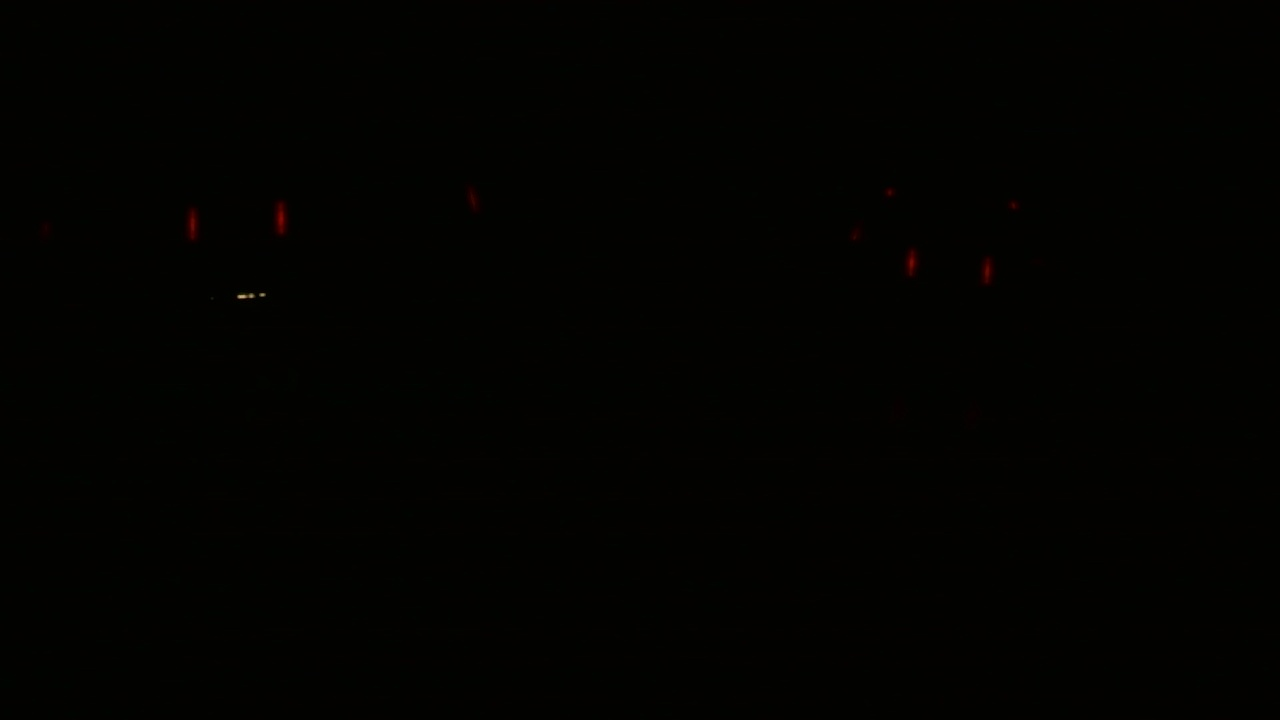pair1: (176, 193, 301, 252)
pair2: (900, 246, 1000, 294)
